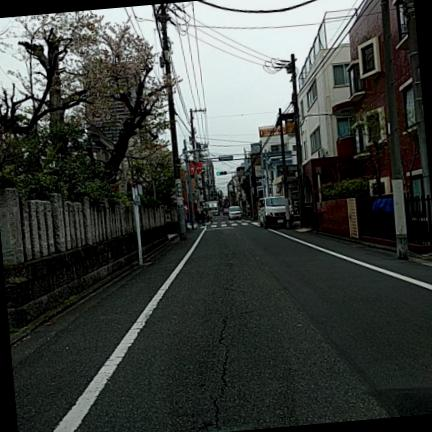Road: (11, 219, 431, 431)
